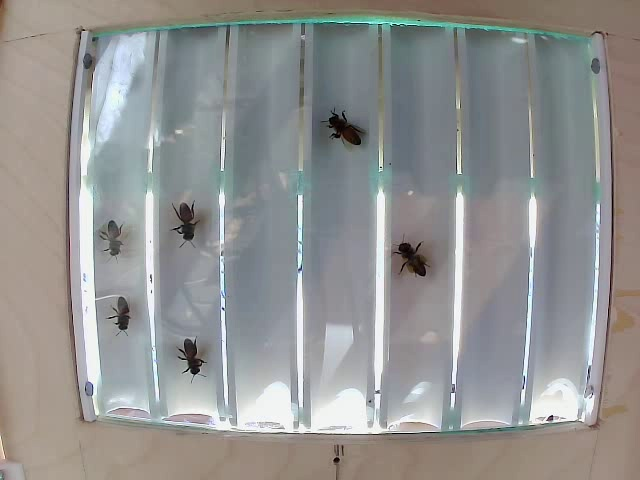bee: (377, 227, 434, 286), (324, 114, 376, 159), (162, 202, 205, 254), (89, 219, 130, 257), (96, 290, 127, 331), (168, 321, 198, 363)
